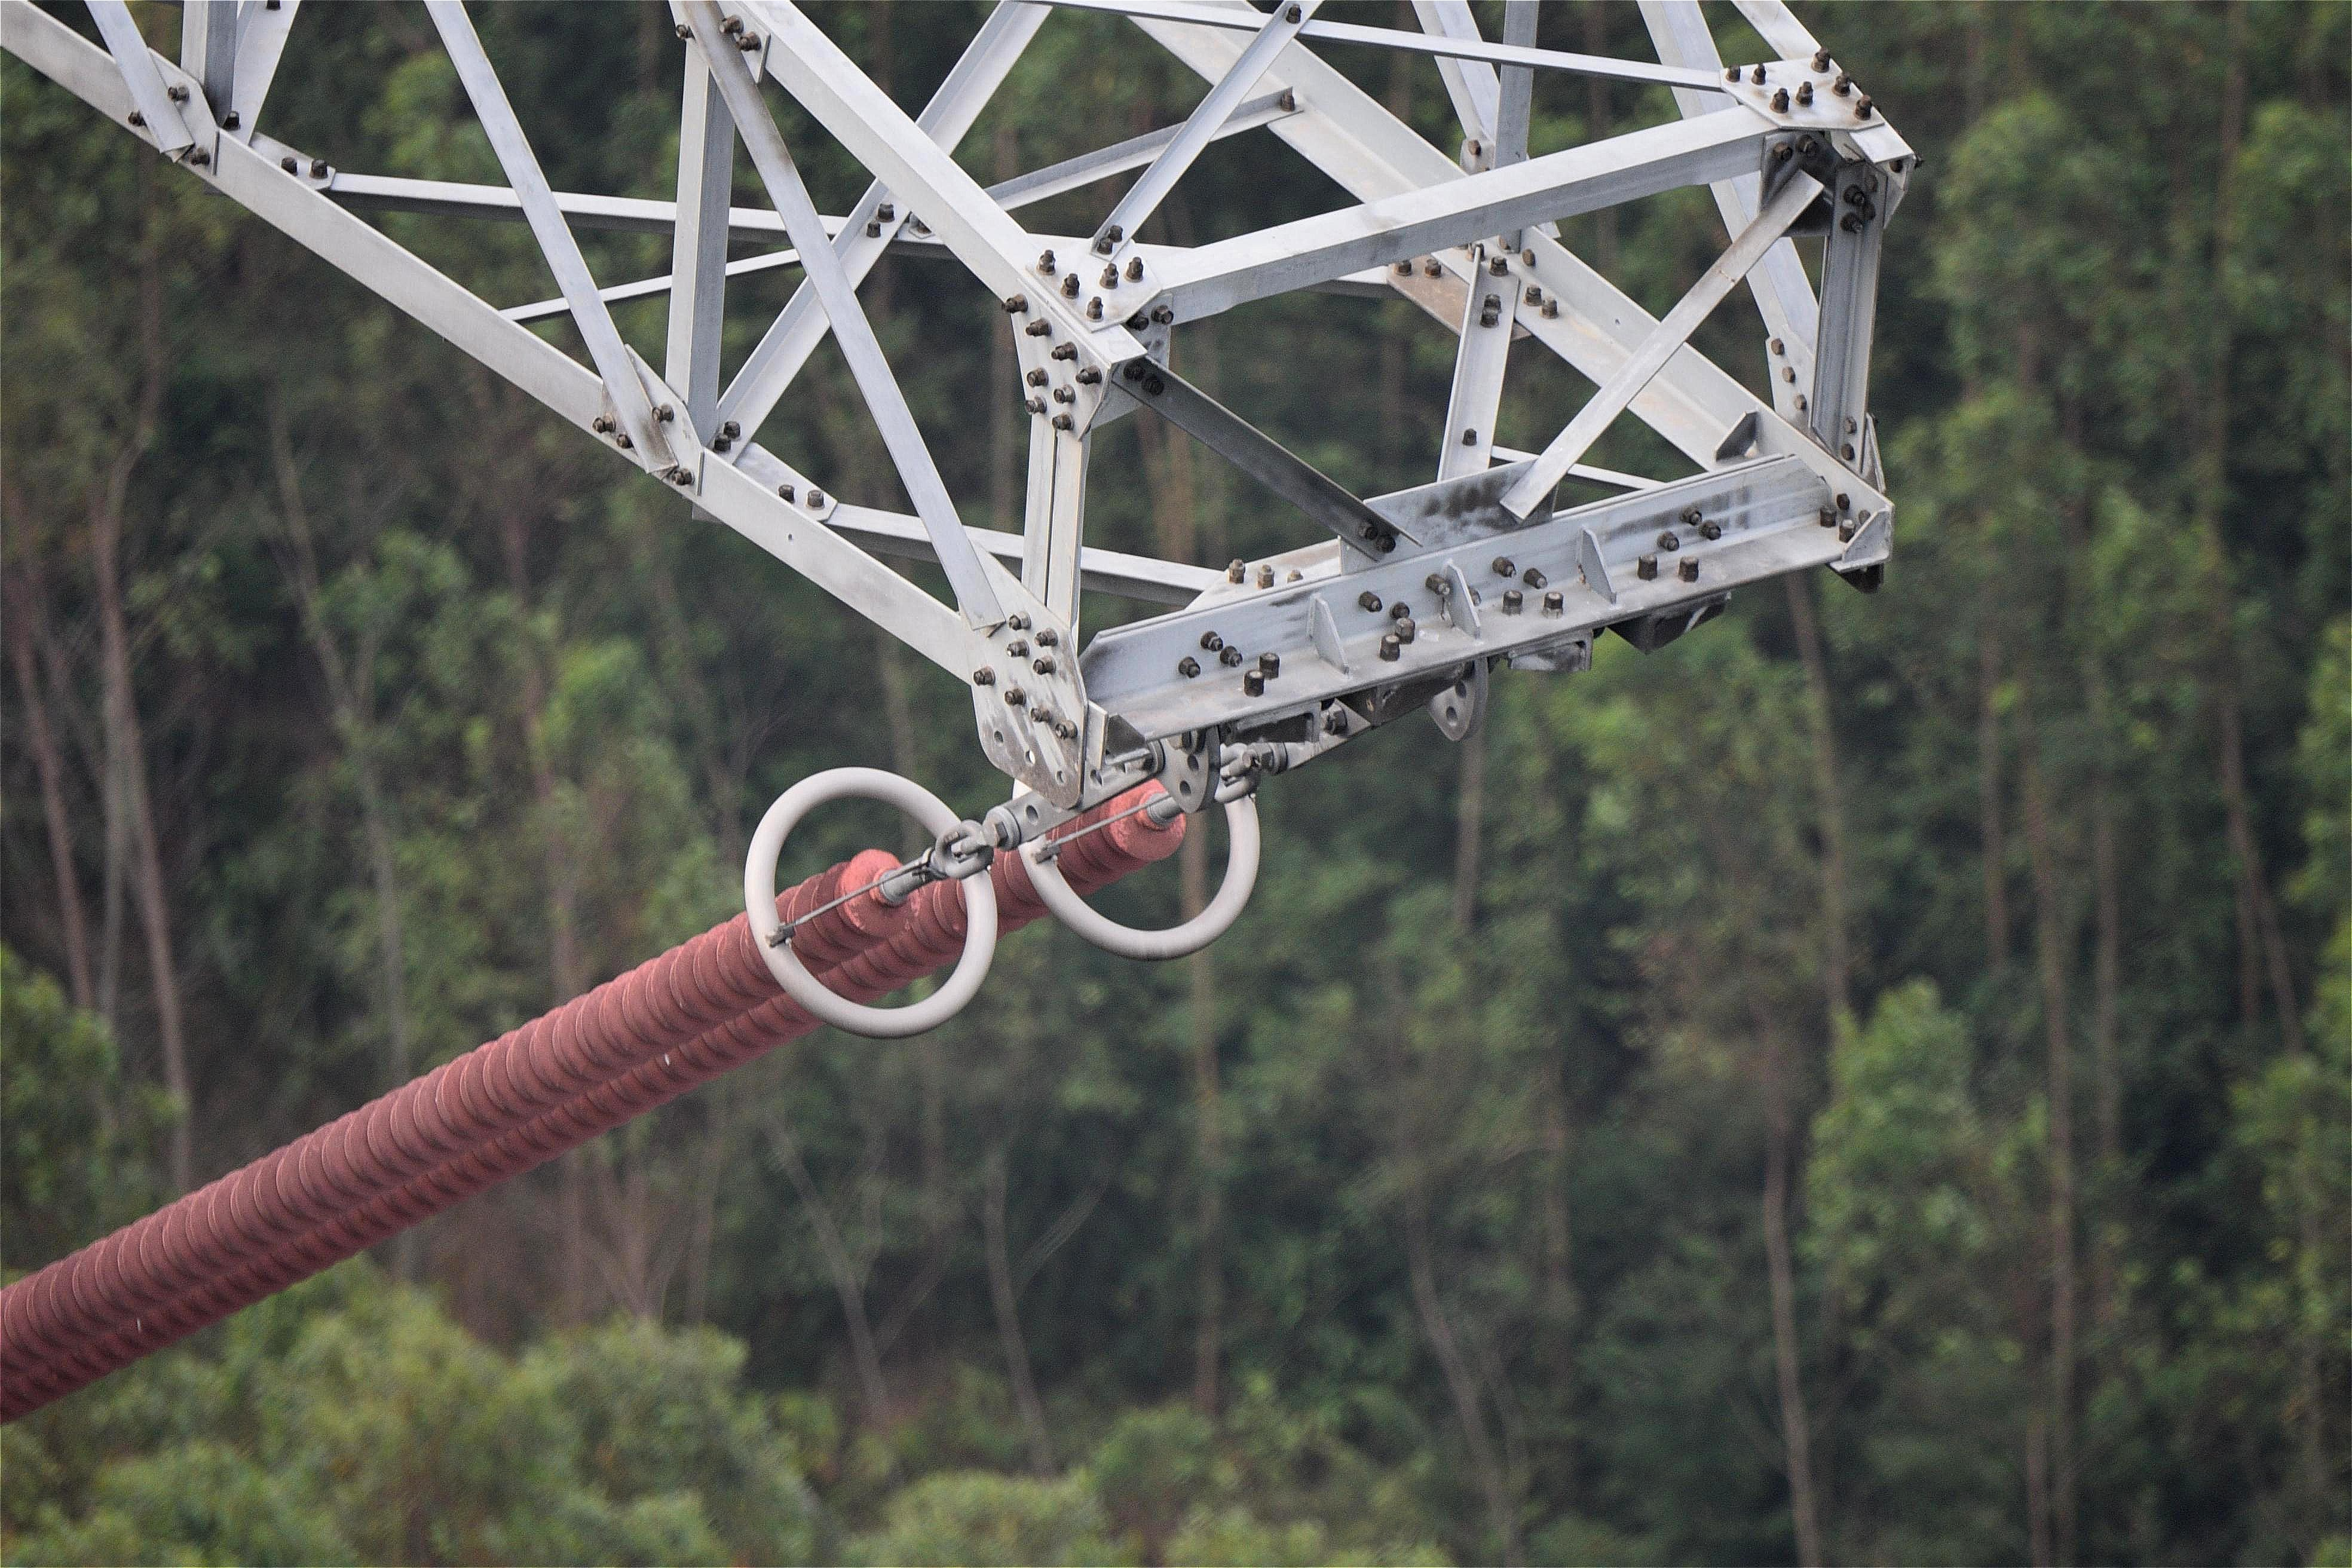insultor1: (0, 731, 1190, 1416)
